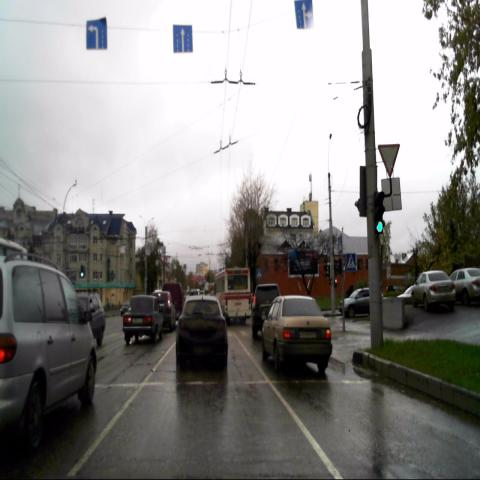5_15_2: (173, 25, 192, 52)
8_13: (382, 176, 402, 210)
